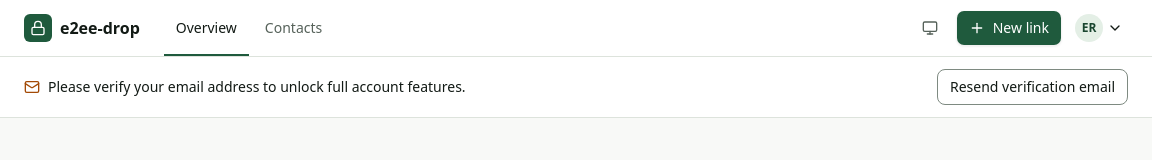
NavBar email verification banner › shows an unavailable message and does not start the cooldown when the server has no mailer configured
The width and height of the screenshot is (1152, 160).
Click the button with test id "resend-verification-button".
click(1032, 87)  # box [937,69,1128,105]
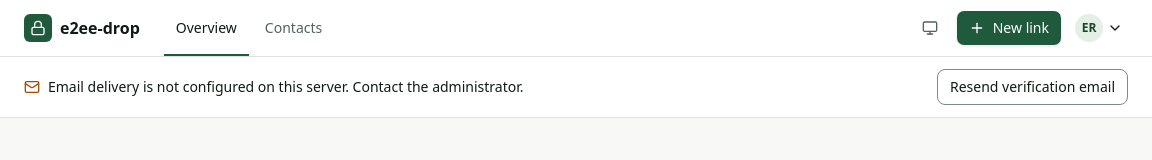
Now the text with test id "resend-message" is shown, box [48,77,524,97]
Now the text with test id "resend-message" shows "not configured", box [48,77,524,96]
